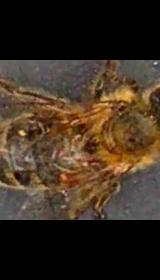varroa_mite: (48, 161, 78, 203)
